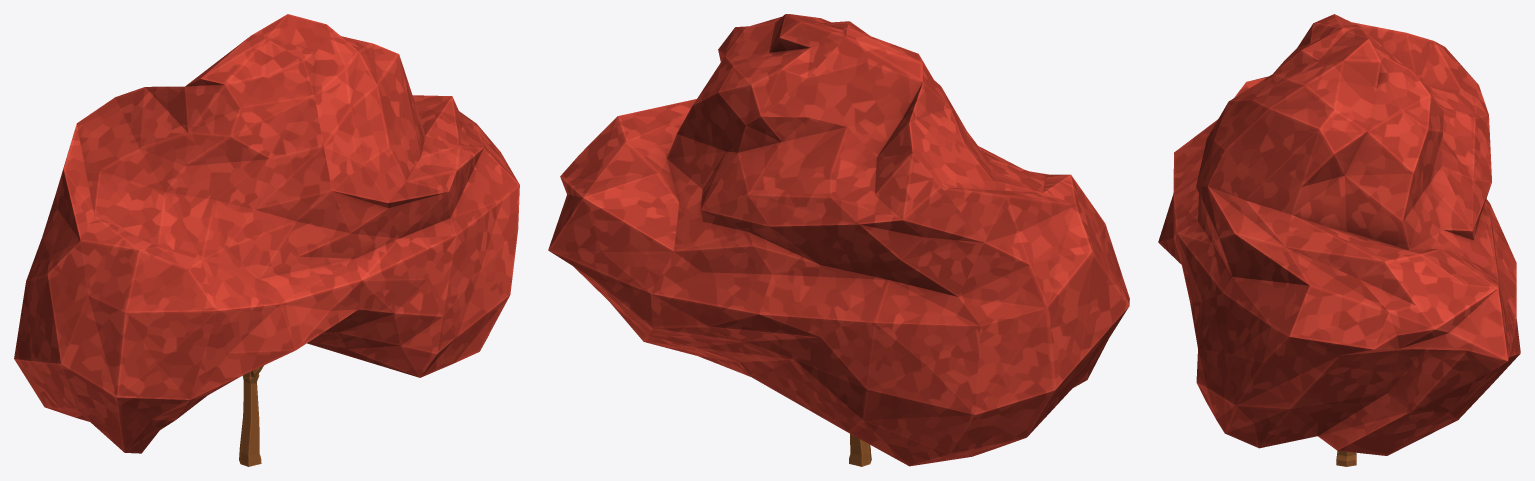
The picture shows the model from 3 angles, left to right: view 1: azimuth 30°, elevation 25°; view 2: azimuth 150°, elevation 25°; view 3: azimuth 270°, elevation 25°; orthographic projection. The views are drawn at different scales.
Parts seen in each view (by area): view 1: MapleTree_mesh; view 2: MapleTree_mesh; view 3: MapleTree_mesh.
Boxes of the visible parts, bbox=[...] form: MapleTree_mesh: bbox=[14, 14, 519, 466]; MapleTree_mesh: bbox=[548, 14, 1129, 466]; MapleTree_mesh: bbox=[1158, 14, 1520, 466].
Size of the model in its own units: 14.87 by 12.41 by 9.1.
Materials: 1 (1 with a texture image).
